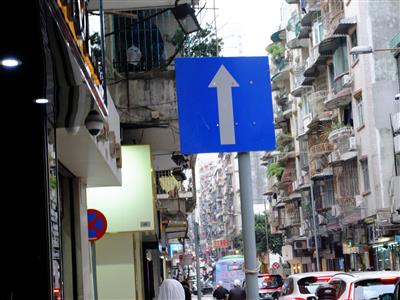oneway: (168, 50, 280, 160)
